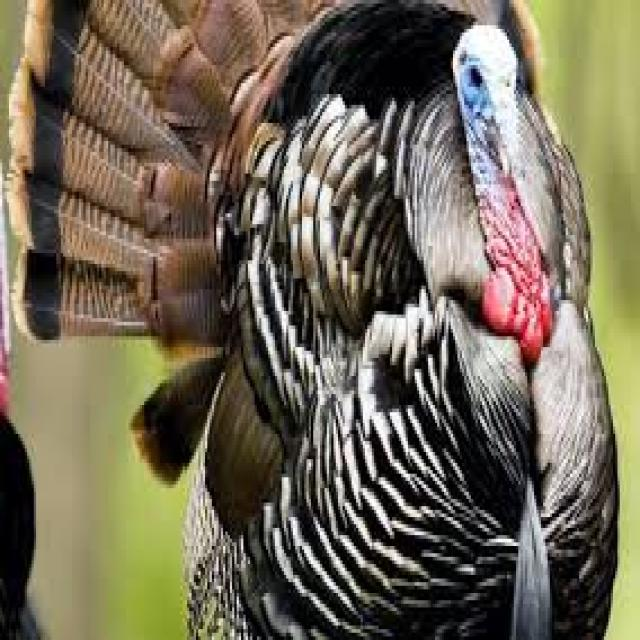Turkey: (7, 2, 627, 640)
